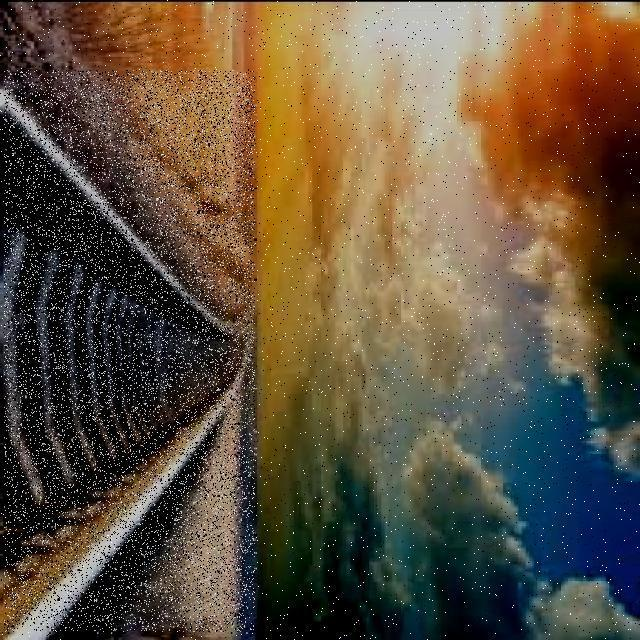rail: (5, 71, 255, 632)
